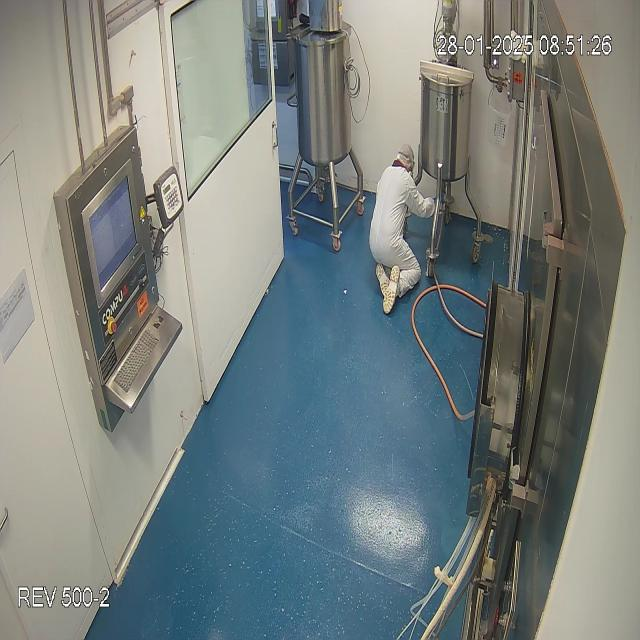bota: (372, 259, 403, 316)
pessoa: (368, 144, 445, 316)
touca: (398, 146, 418, 170)
